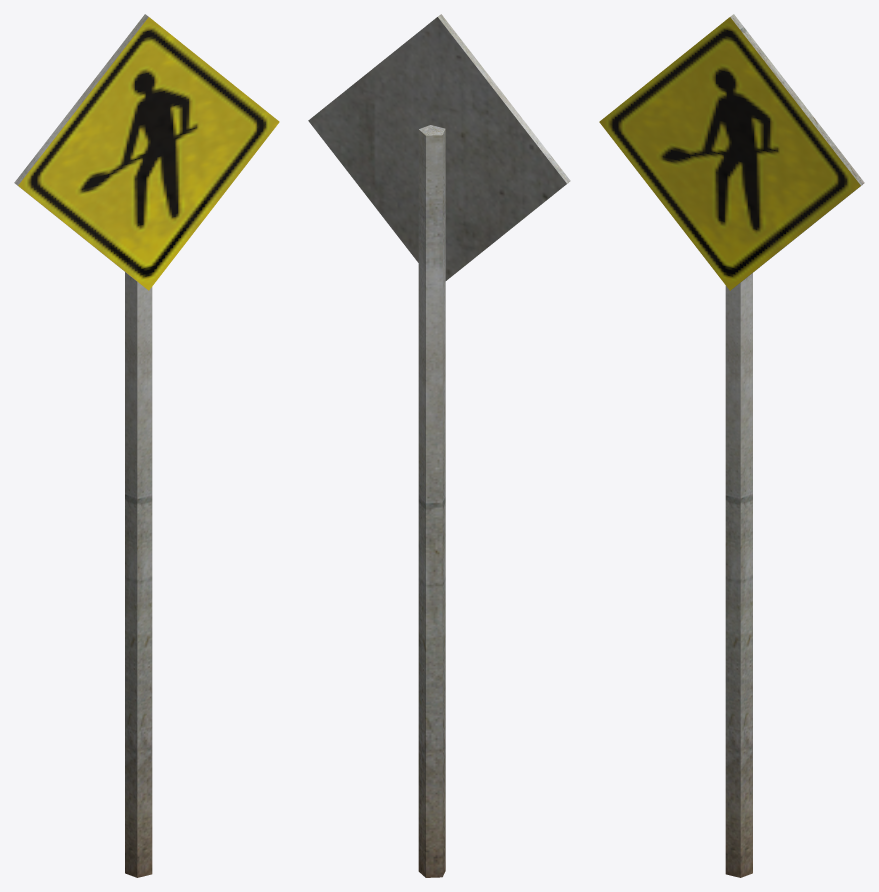
The model's file is square_working.fbx.
3 views of the same model, side by side, from view 1: azimuth 30°, elevation 25°; view 2: azimuth 150°, elevation 25°; view 3: azimuth 330°, elevation 25° (orthographic).
Parts seen in each view (by area): view 1: Cylinder.005; view 2: Cylinder.005; view 3: Cylinder.005.
Boxes of the visible parts, bbox=[...] form: Cylinder.005: bbox=[14, 14, 279, 877]; Cylinder.005: bbox=[308, 14, 570, 877]; Cylinder.005: bbox=[599, 14, 864, 877].
Size of the model in its own units: 156 by 492 by 16.81.
